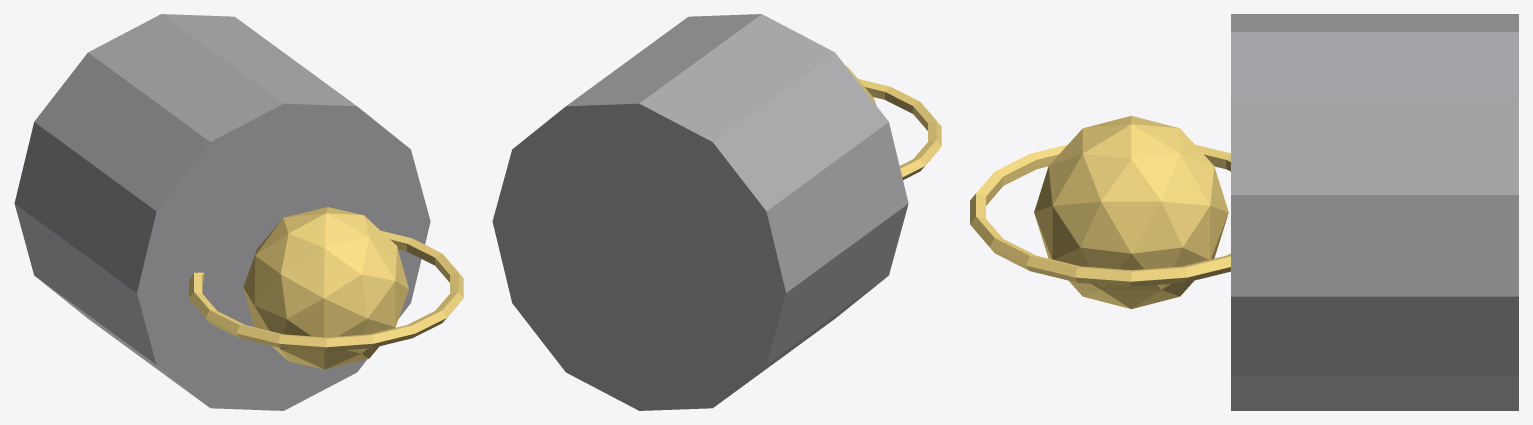
File: fallen_banner_story.glb
3 renders of one model, left to right at view 1: azimuth 30°, elevation 25°; view 2: azimuth 150°, elevation 25°; view 3: azimuth 270°, elevation 25°, orthographic. The views are drawn at different scales.
Parts seen in each view (by area): view 1: pedestal, story_relic, relic_halo; view 2: pedestal, relic_halo; view 3: pedestal, story_relic, relic_halo.
Part boxes in pixels (box(x1,y1,x2,y2)): pedestal: box(14, 14, 430, 410); story_relic: box(243, 207, 408, 369); relic_halo: box(189, 231, 463, 351); pedestal: box(492, 14, 908, 410); relic_halo: box(858, 79, 941, 179); pedestal: box(1231, 14, 1518, 410); story_relic: box(1034, 115, 1228, 309); relic_halo: box(970, 144, 1230, 286).
Size of the model in its own units: 0.9 by 0.9 by 1.24.
